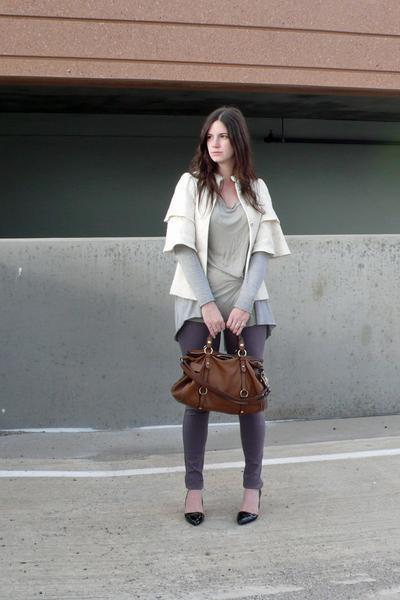bag: (171, 324, 270, 414)
jacket: (163, 173, 288, 299)
pants: (175, 316, 274, 491)
shirt: (171, 194, 274, 340)
shoe: (185, 511, 257, 525)
